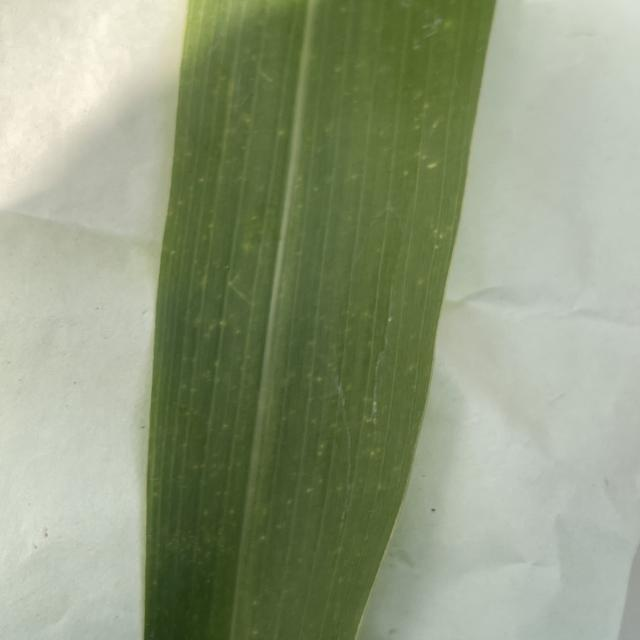millet_healthy: (134, 0, 504, 640)
